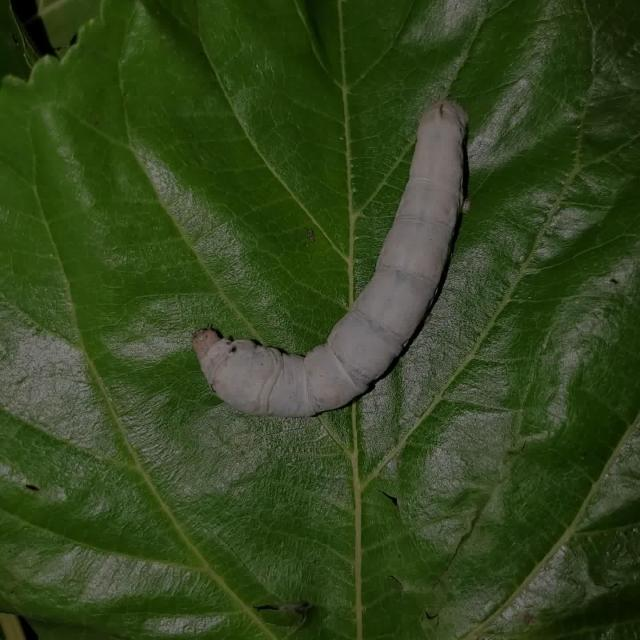Healthy: (175, 84, 492, 429)
